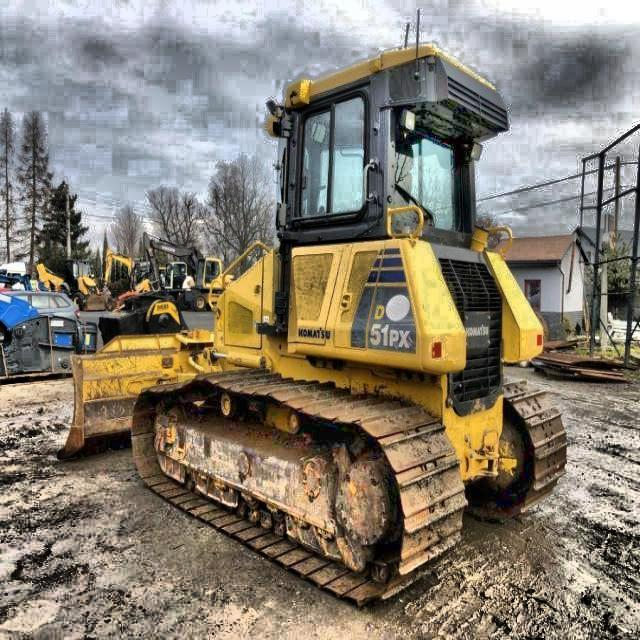bull_dozer/loader/grader: (60, 43, 581, 614)
